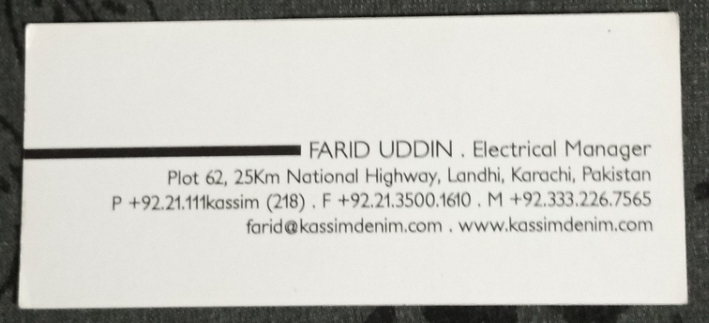alphabetical: (470, 135, 656, 163), (305, 134, 457, 161)
numerical: (509, 187, 656, 213), (337, 185, 475, 212)
